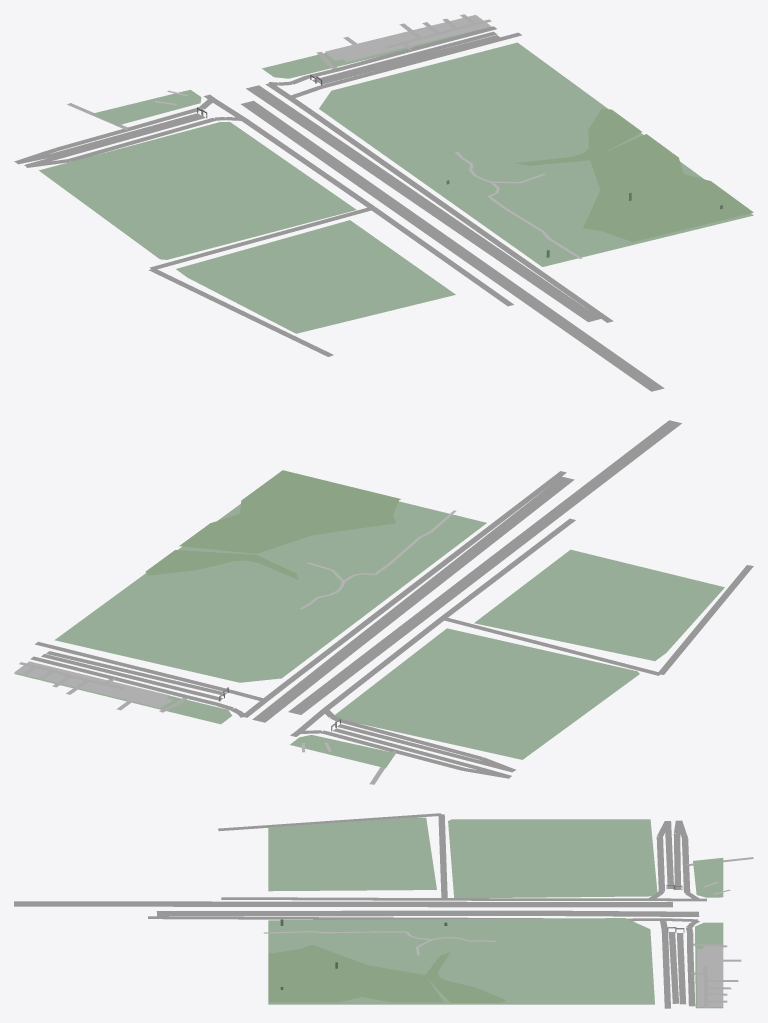
3 renders of one model, top to bottom at view 1: azimuth 30°, elevation 25°; view 2: azimuth 150°, elevation 25°; view 3: azimuth 270°, elevation 25°, orthographic. The views are drawn at different scales.
Bounding box in the file's own units: 530 × 24.19 × 813.
